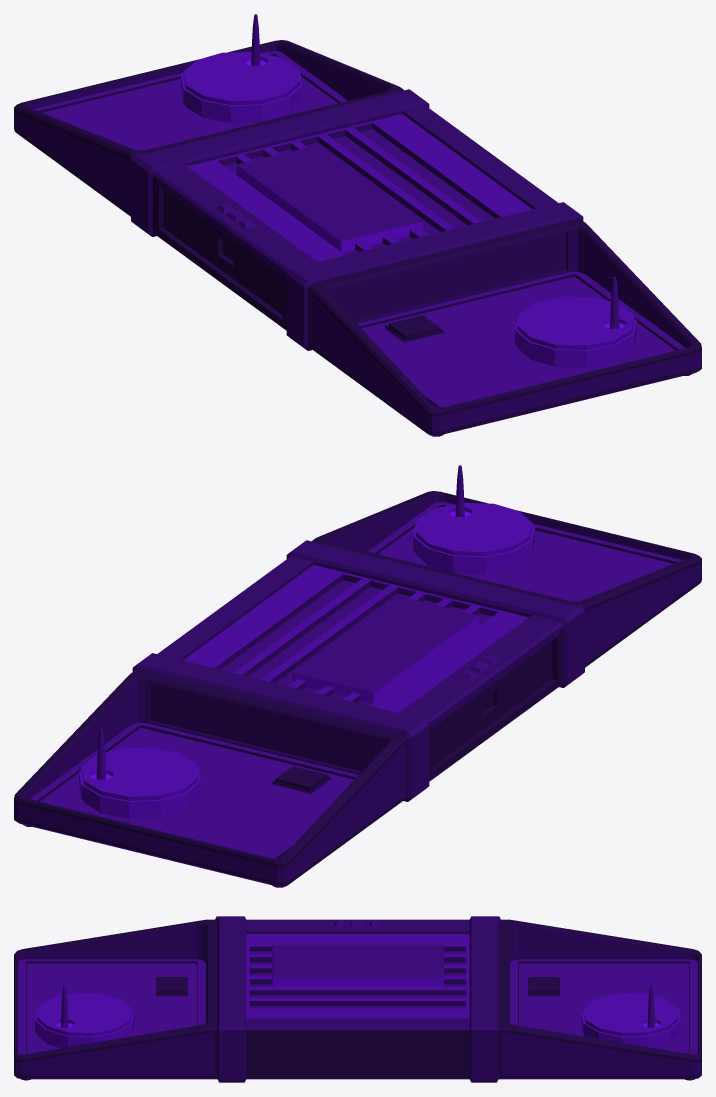
Rendered from Coleco Telstar .gltf.
3 renders of one model, top to bottom at view 1: azimuth 30°, elevation 25°; view 2: azimuth 150°, elevation 25°; view 3: azimuth 270°, elevation 25°, orthographic. The views are drawn at different scales.
Parts seen in each view (by area): view 1: Coleco Telstar; view 2: Coleco Telstar; view 3: Coleco Telstar.
Boxes of the visible parts, bbox=[...] form: Coleco Telstar: bbox=[14, 14, 701, 436]; Coleco Telstar: bbox=[14, 465, 701, 887]; Coleco Telstar: bbox=[14, 916, 701, 1082].
Size of the model in its own units: 0.9576 by 0.2916 by 2.48.
Materials: 1 (1 with a texture image).
